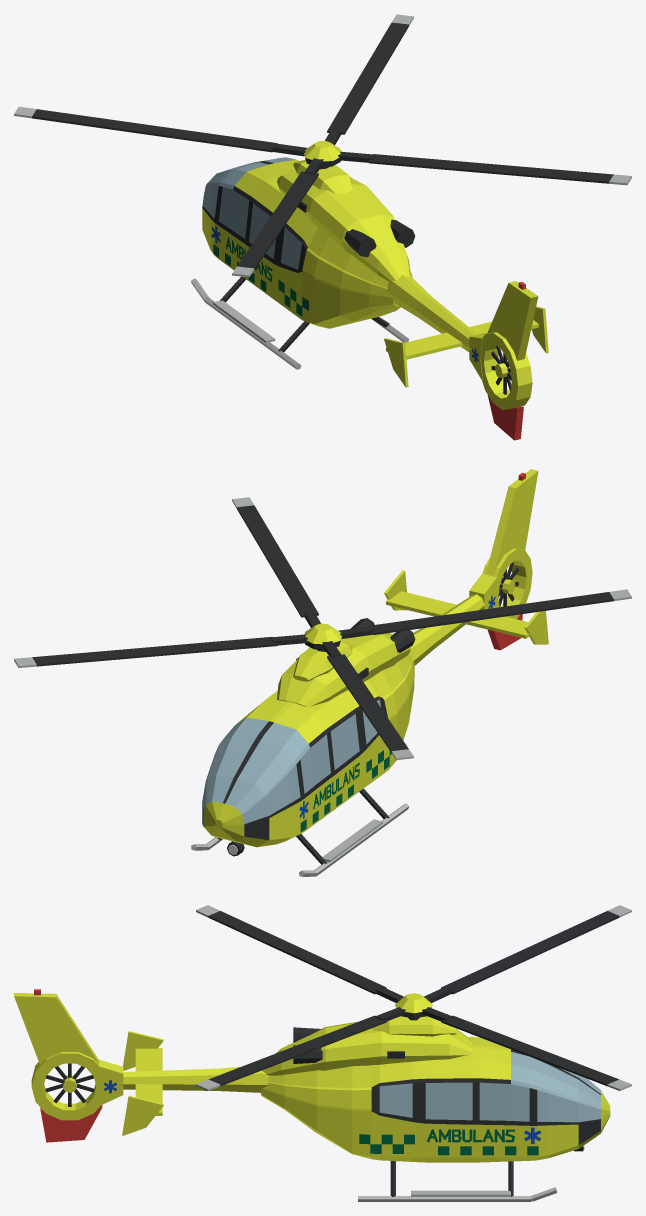
Rendered from air_ambulance.glb.
3 views of the same model, one above another, from view 1: azimuth 30°, elevation 25°; view 2: azimuth 150°, elevation 25°; view 3: azimuth 270°, elevation 25° (orthographic). The views are drawn at different scales.
Parts seen in each view (by area): view 1: hull, cabin, rotor; view 2: cabin, hull, rotor; view 3: cabin, hull, rotor, tail_rotor.
Part boxes in pixels (box(x1,y1,x2,y2)): hull: box(191, 160, 548, 440); cabin: box(202, 157, 478, 362); rotor: box(14, 14, 631, 277); cabin: box(202, 596, 495, 847); hull: box(191, 469, 548, 876); rotor: box(14, 497, 631, 760); cabin: box(103, 1037, 610, 1162); hull: box(14, 989, 584, 1201); rotor: box(196, 905, 631, 1090); tail_rotor: box(45, 1063, 94, 1106).
Bounding box in the file's own units: 7.42 × 3.49 × 10.51.
